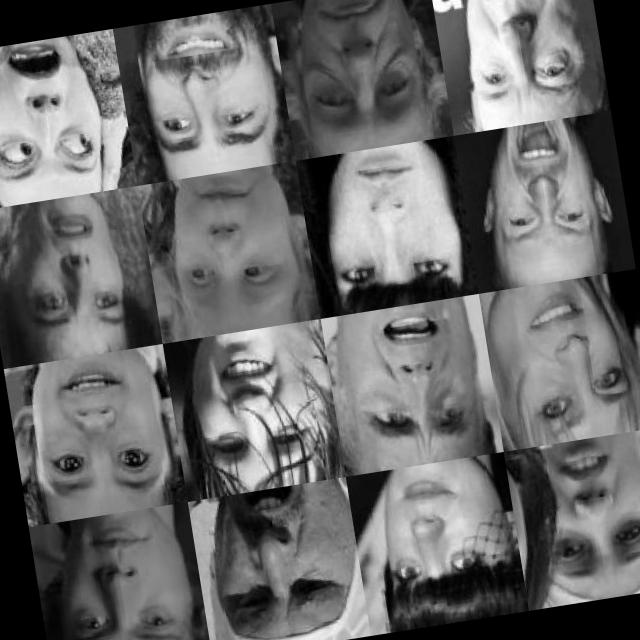angry: (201, 479, 359, 640), (0, 187, 145, 354), (476, 114, 618, 284)
fear: (342, 296, 484, 462), (0, 35, 118, 197)
happy: (164, 324, 344, 489), (354, 452, 518, 618), (26, 348, 181, 512), (129, 12, 281, 178), (494, 276, 635, 437), (444, 0, 598, 115)
neutral: (44, 503, 202, 640)
sad: (148, 165, 304, 327), (315, 140, 467, 301), (283, 0, 442, 147), (526, 435, 640, 595)
